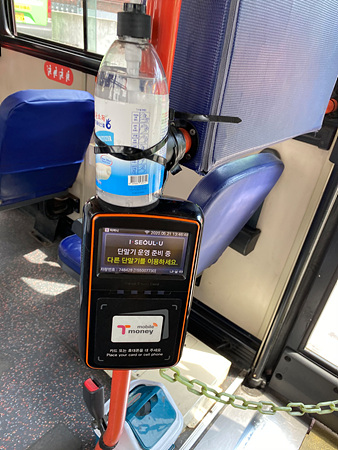terminal: (80, 199, 188, 363)
